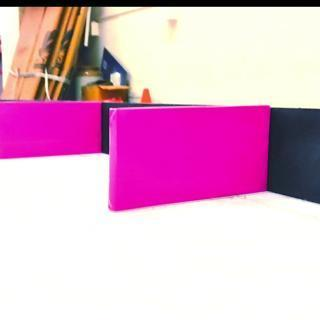xparking: (110, 108, 268, 204), (1, 102, 100, 154)
